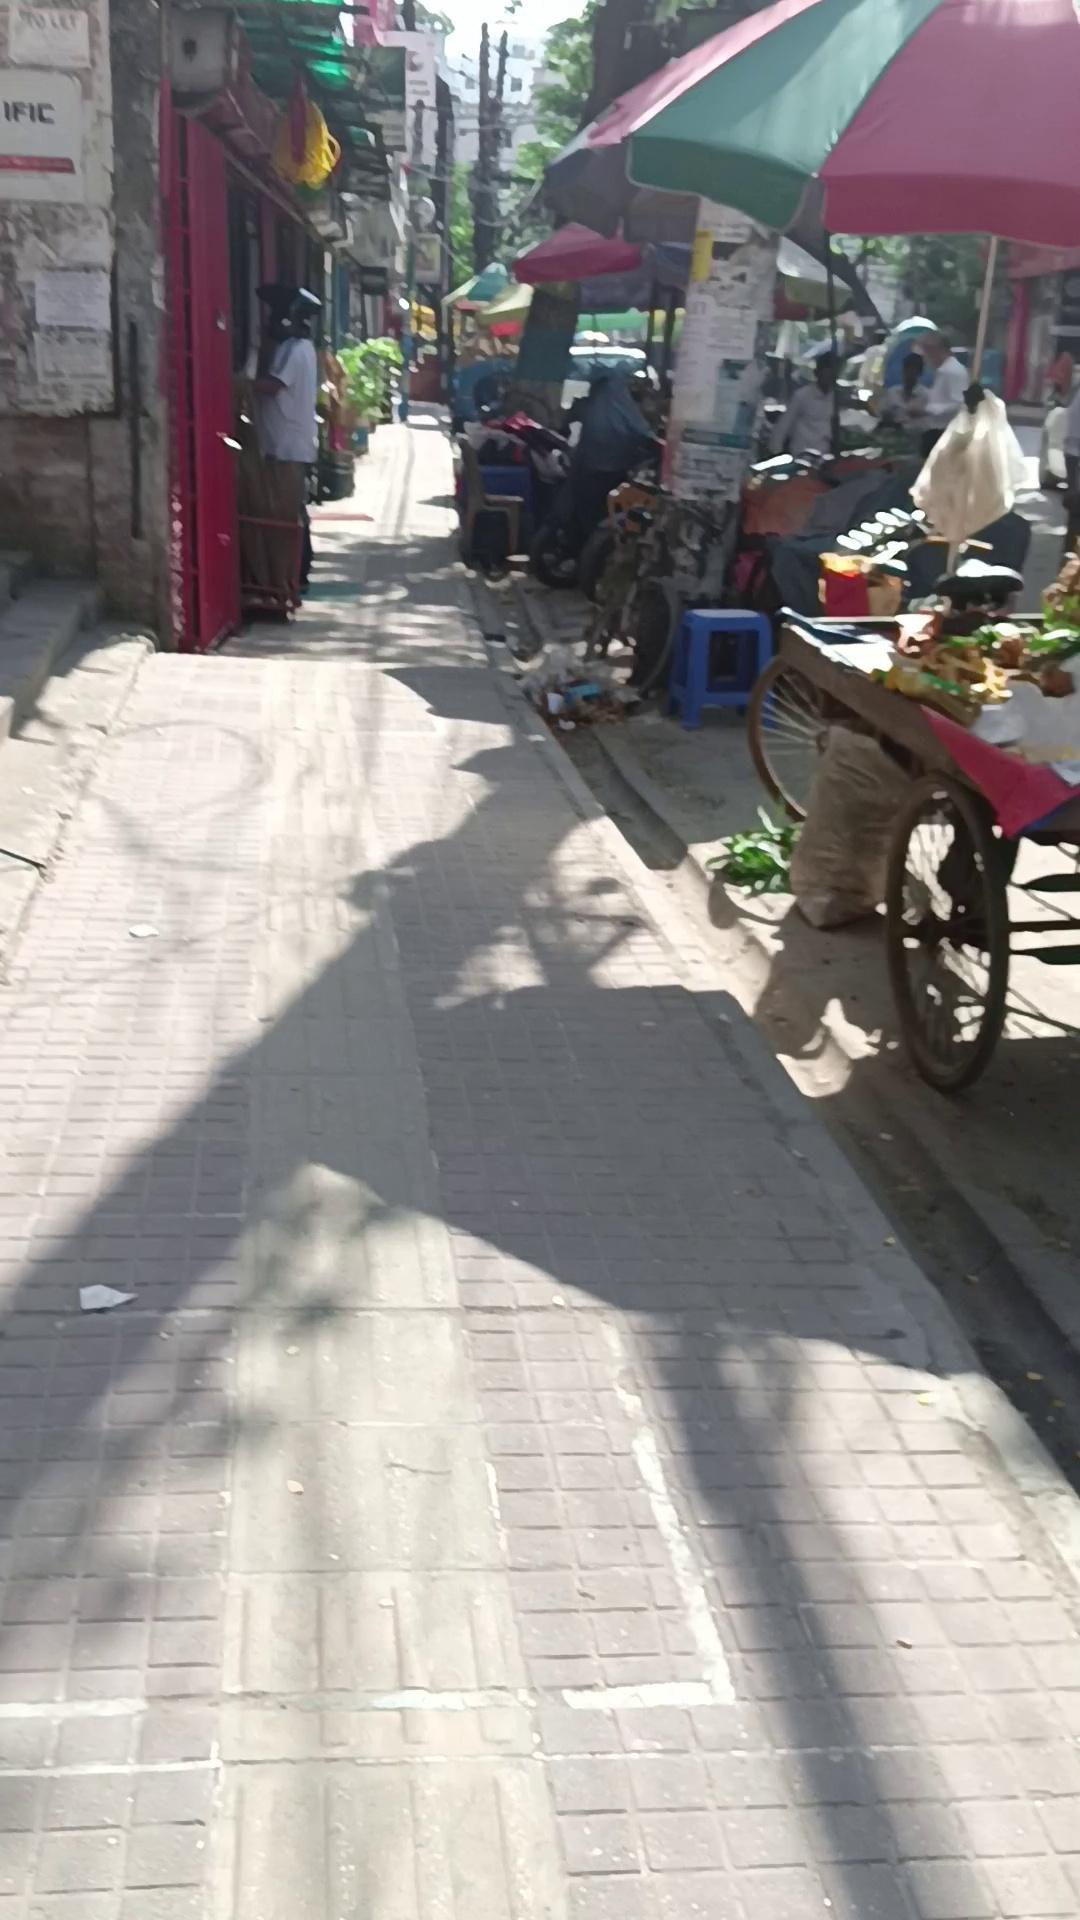Broken-road: (458, 915, 1080, 1867)
Crosswalk: (665, 605, 771, 729)
Curb: (243, 281, 323, 615)
Fallen-tree: (334, 334, 405, 429)
Fence: (744, 603, 1077, 1095)
Garbage: (3, 442, 938, 1916)
Obstacle: (1, 1, 171, 644)
